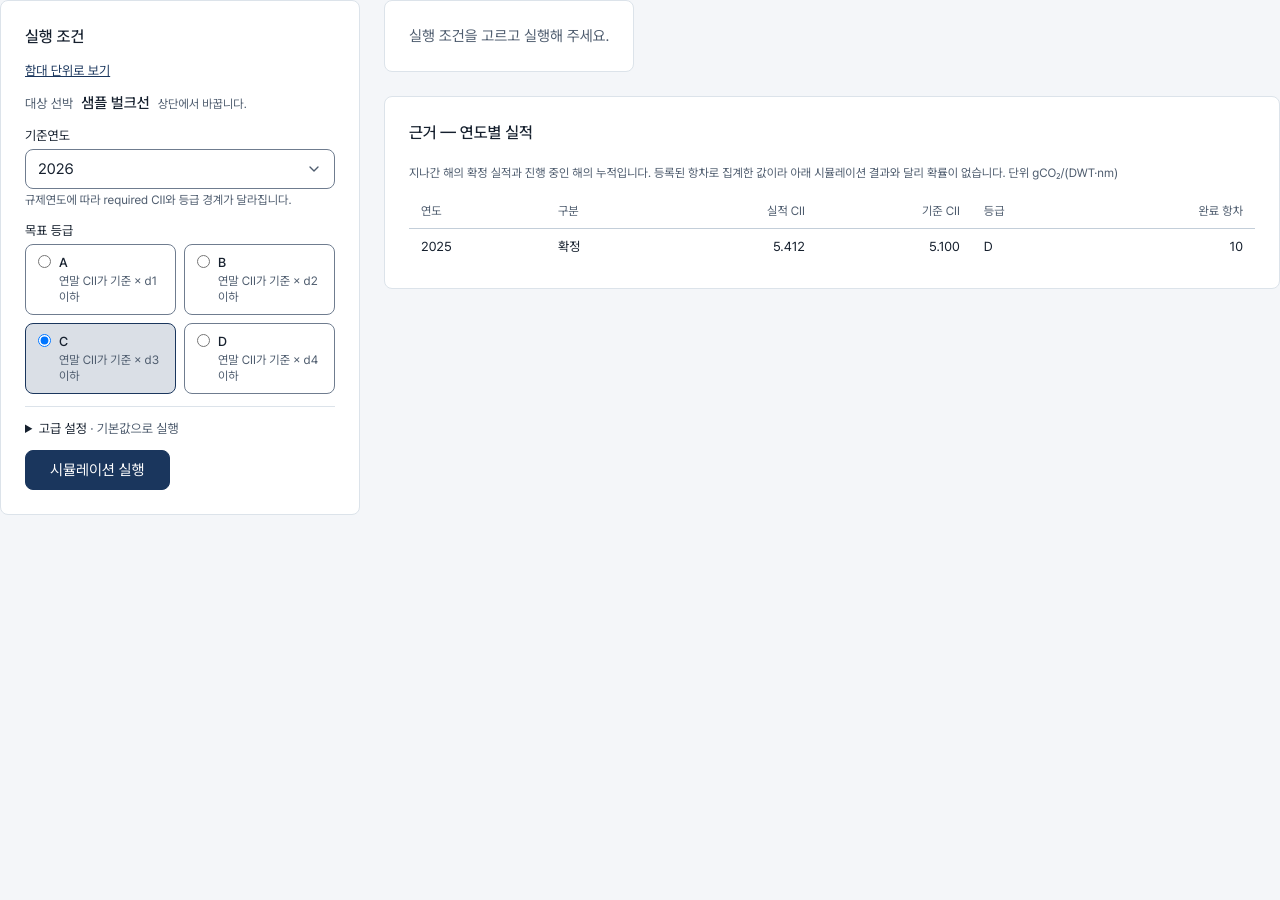
Scenario: 민감도 — 거리 행의 이유 (#756) › 결론 띠 아래에 달성 확률을 가장 많이 올리는 변수를 한 줄로 적는다 (#2199)
Click the button "시뮬레이션 실행": (97, 470) left=25, top=450, right=170, bottom=490
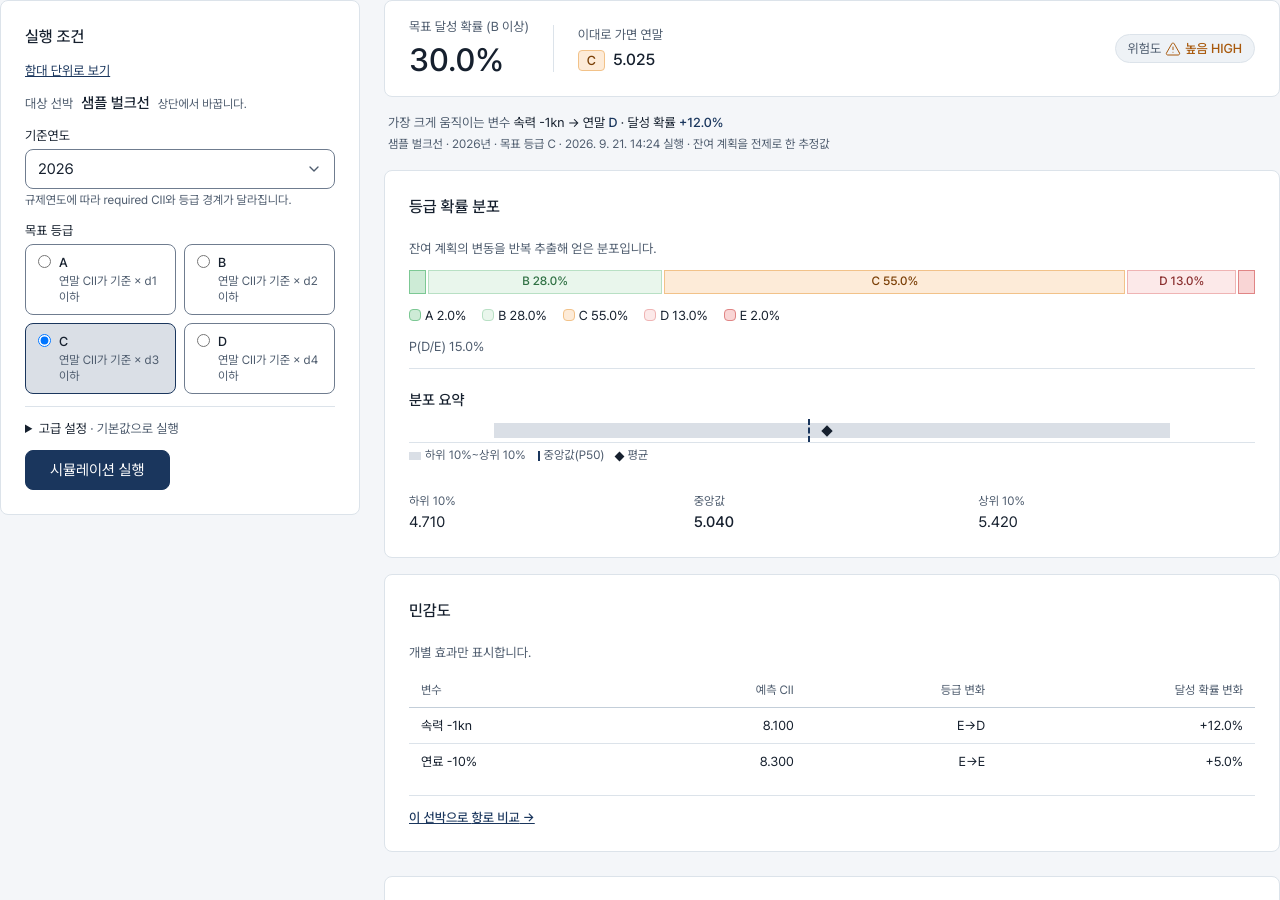
Check: the element with test id "annual-sim-top-lever" shows "가장 크게 움직이는 변수", box left=388, top=115, right=510, bottom=130
Check: the element with test id "annual-sim-top-lever" shows "속력 -1kn", box left=513, top=115, right=564, bottom=130
